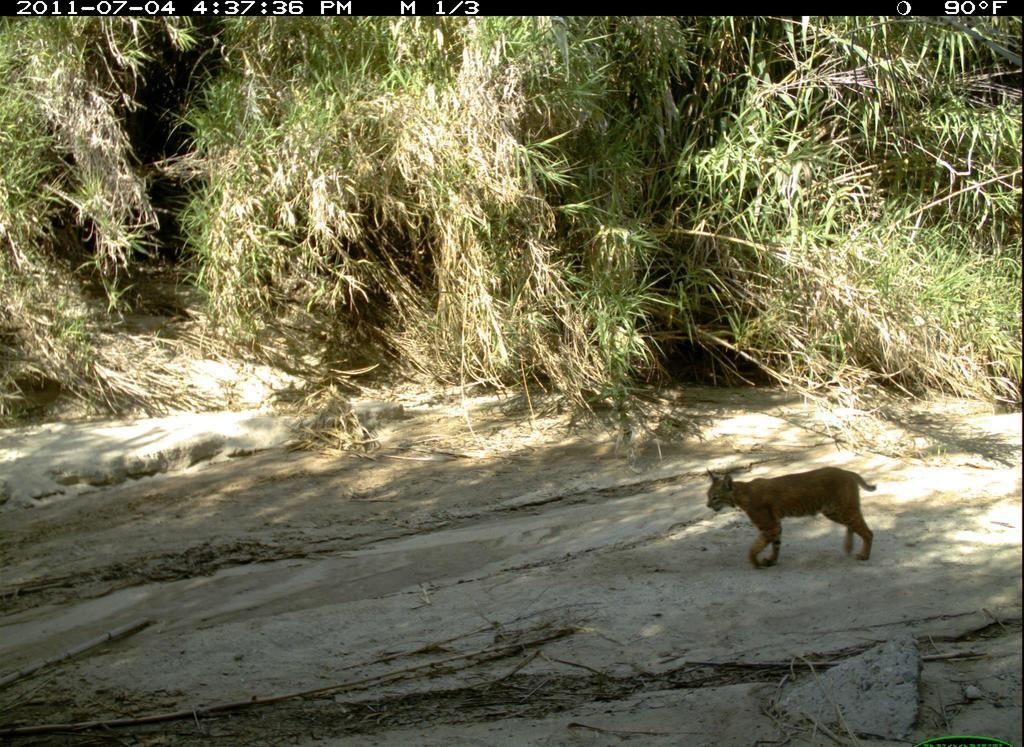bobcat: (699, 461, 885, 582)
